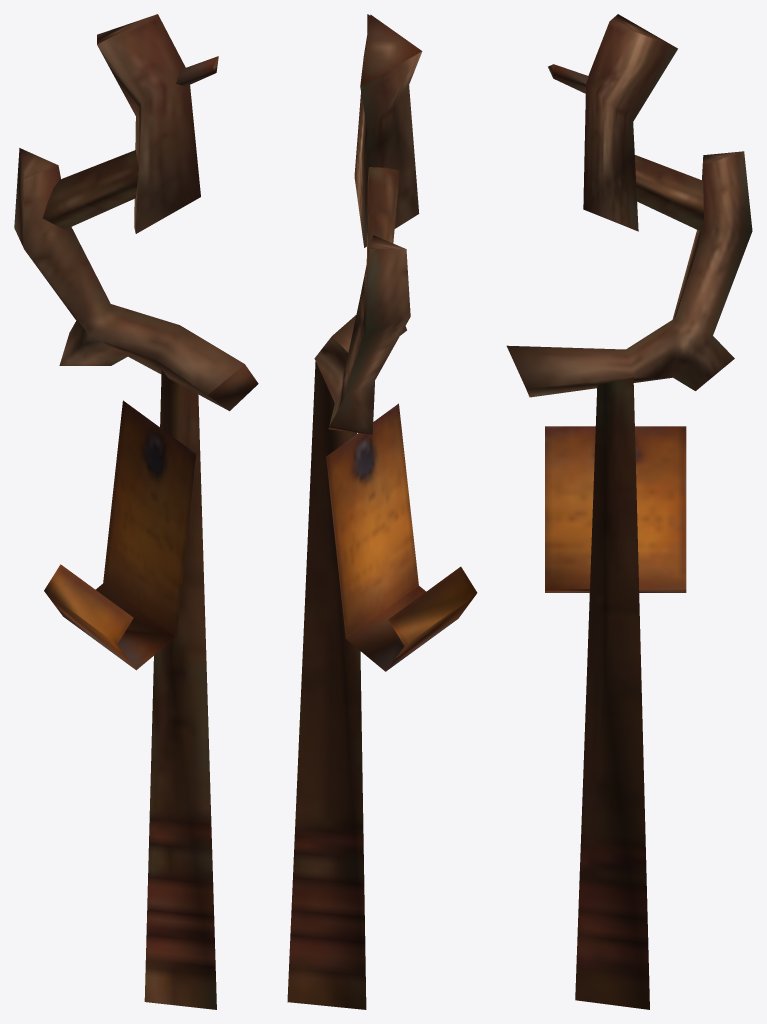
Rendered from xueshi_weapon.FBX.
The picture shows the model from 3 angles, left to right: view 1: azimuth 30°, elevation 25°; view 2: azimuth 150°, elevation 25°; view 3: azimuth 270°, elevation 25°; orthographic projection. The views are drawn at different scales.
Visible parts, largest first — view 1: xueshiwuqi; view 2: xueshiwuqi; view 3: xueshiwuqi.
Boxes of the visible parts, x1,y1,x2,y2 form: xueshiwuqi: (14, 14, 258, 1009); xueshiwuqi: (287, 14, 477, 1009); xueshiwuqi: (506, 14, 752, 1009).
Bounding box in the file's own units: 0.2215 × 0.3268 × 1.41.
